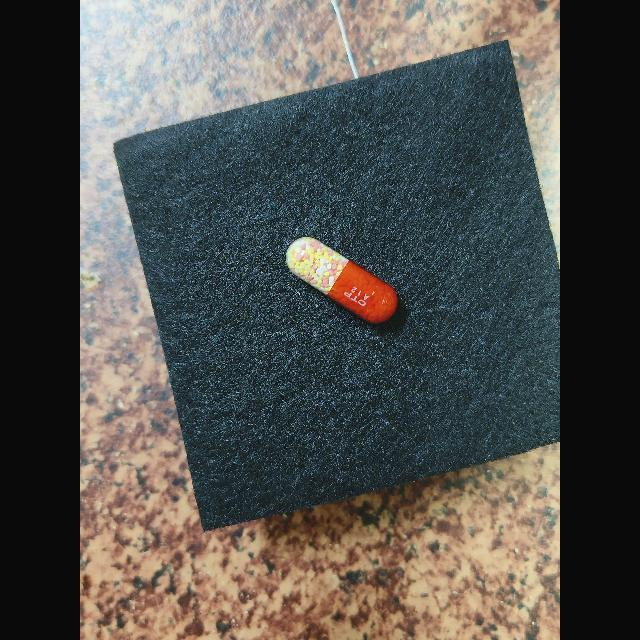Intact Capsule: (286, 237, 398, 324)
